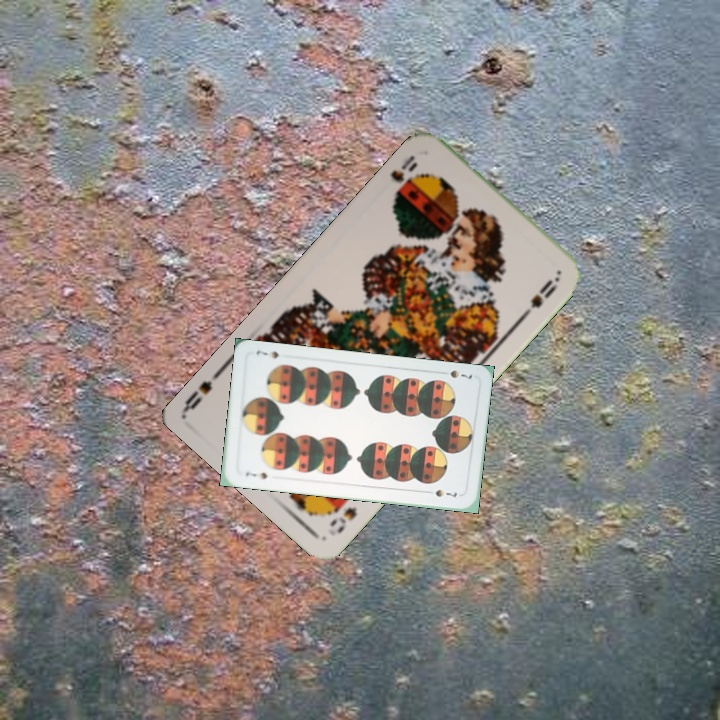S7: (436, 366, 476, 382), (241, 468, 270, 482)
SO: (386, 151, 421, 186), (325, 503, 360, 536)
